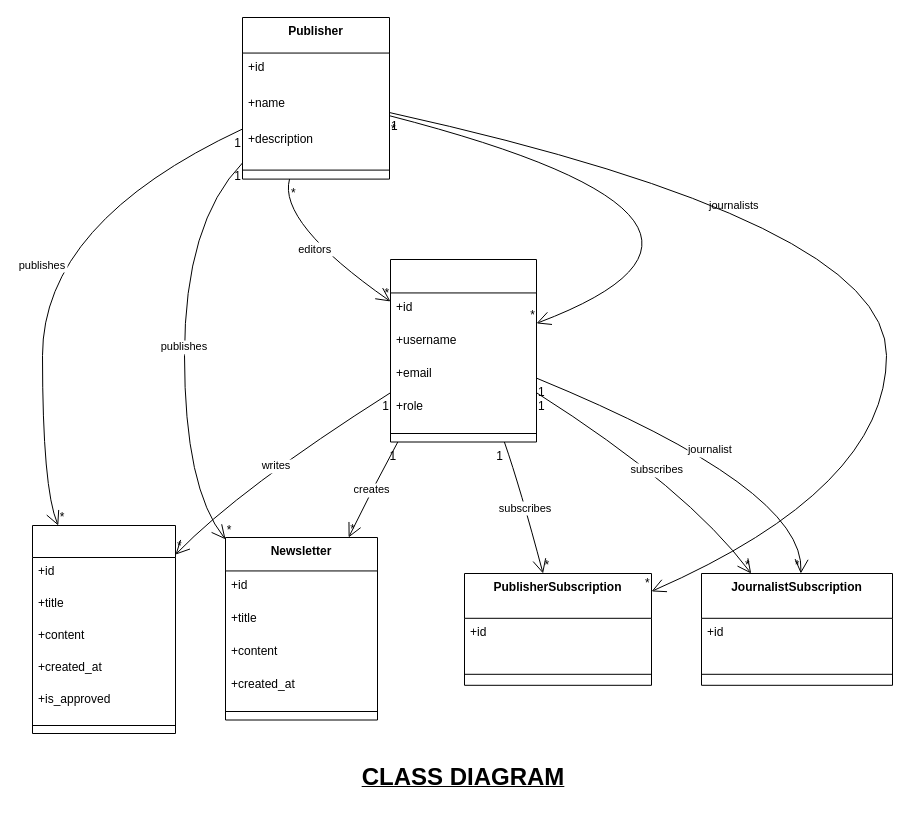
Some shapes in this 910 by 815 pixel diagram are drawn without their labels. The shapes that lost their labels are listed below. From the top down, each one's box as (x1, y1, x2, y2) in pixels, then its label:
(390, 258, 536, 442): CustomUser
(32, 524, 176, 734): Article
